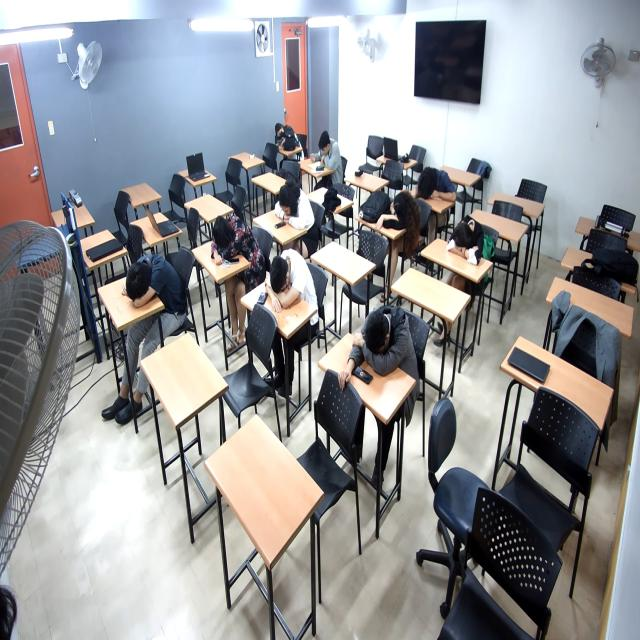sleep: (349, 304, 419, 382), (123, 251, 185, 310), (267, 246, 315, 314), (208, 214, 261, 268), (441, 214, 485, 270), (271, 179, 317, 232), (412, 166, 458, 200), (380, 194, 419, 231), (273, 121, 298, 149)
